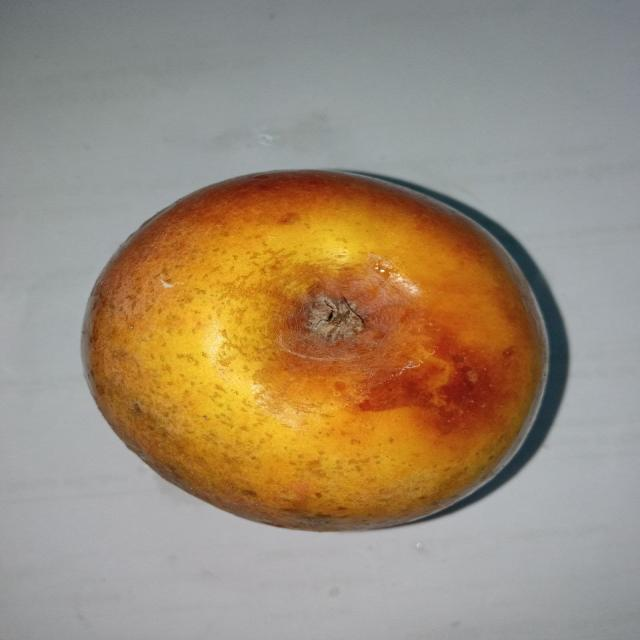rotten_apple: (80, 170, 547, 534)
